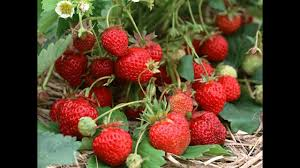ripe: (145, 112, 195, 153), (181, 106, 229, 148), (57, 95, 99, 137), (91, 124, 134, 165), (52, 45, 88, 87), (117, 44, 154, 81), (194, 76, 229, 113), (190, 26, 228, 60), (99, 25, 130, 61), (132, 34, 167, 64), (167, 87, 195, 117), (84, 56, 113, 83), (215, 73, 240, 101), (72, 28, 97, 54), (218, 10, 243, 34), (190, 61, 219, 81), (90, 84, 113, 108), (49, 92, 67, 122)
unripe: (76, 116, 100, 137), (213, 61, 240, 78), (124, 151, 144, 167)
